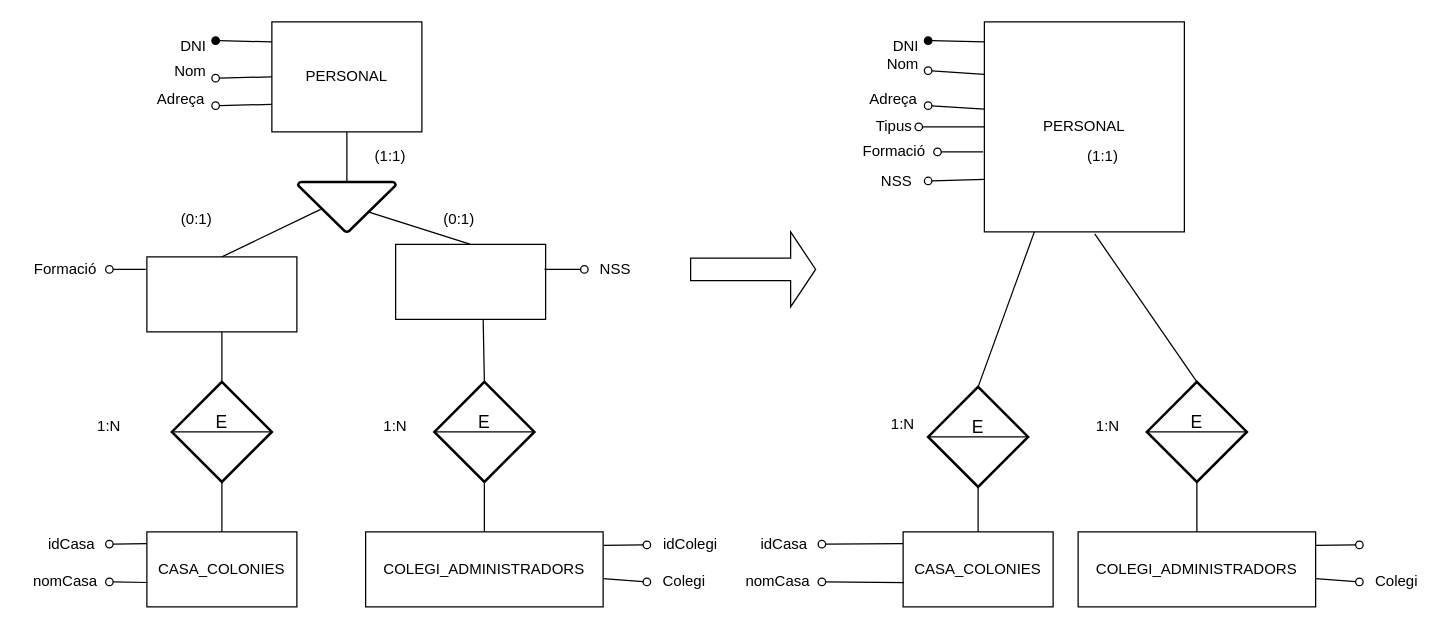
The diagram is 1455 pixels wide and 629 high, and some of its shapes have lost their labels. The shapes that lost their labels are listed below. From the top down, each one's box as (x1, y1, x2, y2) in pixels, then its label:
(296, 180, 396, 232): es
(146, 256, 297, 332): MONITOR
(394, 243, 546, 319): ADMINISTRADOR
